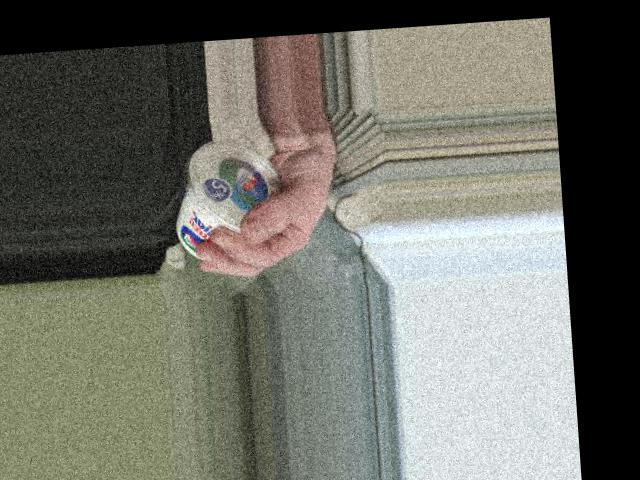cotage: (170, 132, 285, 266)
